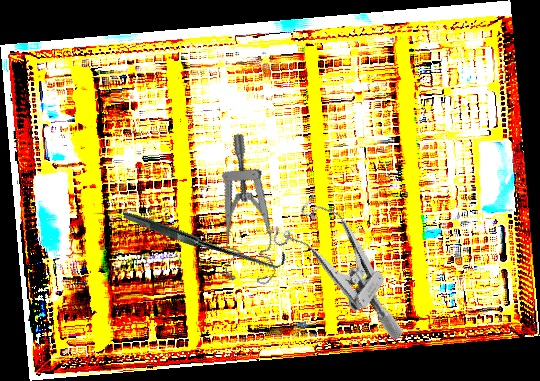Hook Surgical: (122, 152, 289, 322)
Speculum: (257, 184, 439, 342), (191, 132, 313, 293)
